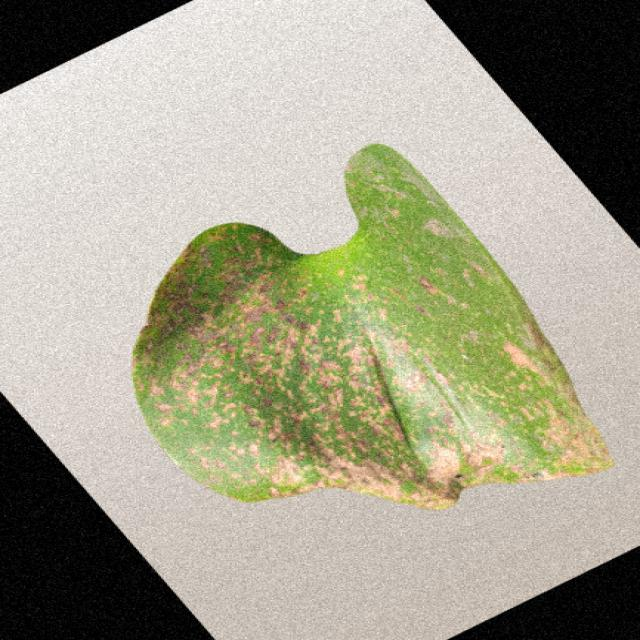daun berpenyakit bercak: (133, 144, 613, 509)
